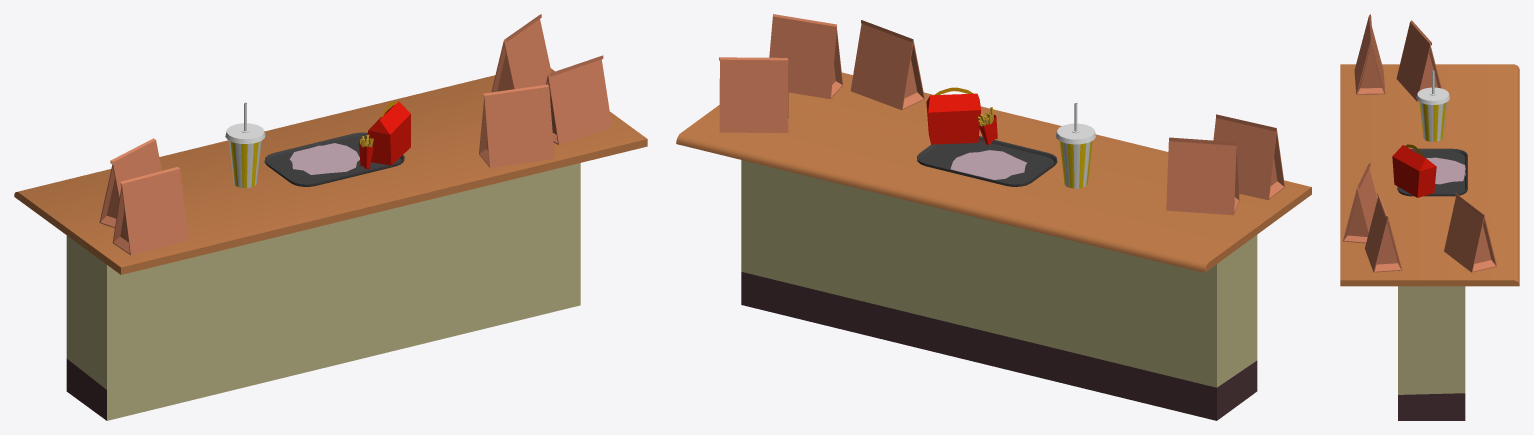
File: readyorrder.fbx
The picture shows the model from 3 angles, left to right: view 1: azimuth 30°, elevation 25°; view 2: azimuth 150°, elevation 25°; view 3: azimuth 270°, elevation 25°; orthographic projection. The views are drawn at different scales.
Visible parts, largest first — view 1: Plane.098; view 2: Plane.098; view 3: Plane.098.
Boxes of the visible parts, box(x1,y1,x2,y2) form: Plane.098: box(14, 14, 647, 420); Plane.098: box(676, 14, 1311, 420); Plane.098: box(1340, 14, 1519, 420).
Bounding box in the file's own units: 324 × 155 × 114.
